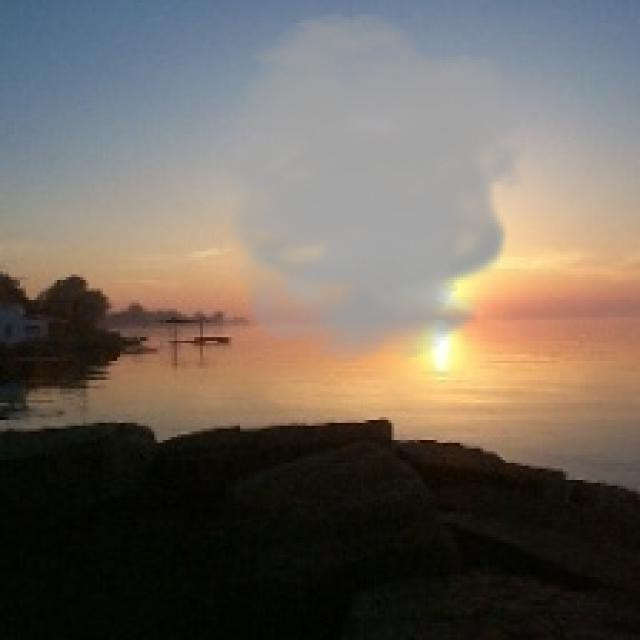Smoke: (185, 11, 538, 363)
